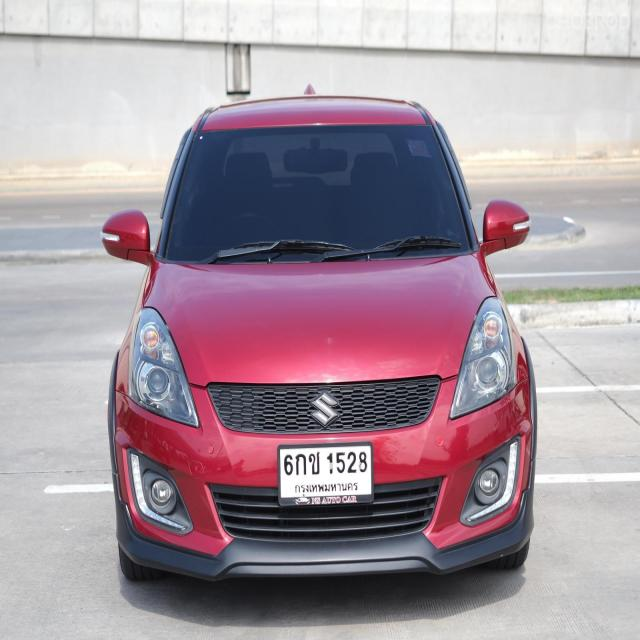license_plate: (276, 442, 377, 504)
